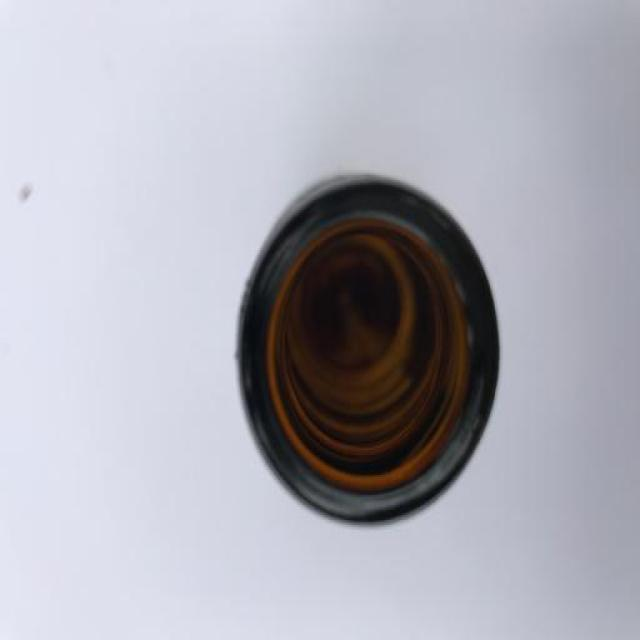glass: (234, 172, 500, 528)
